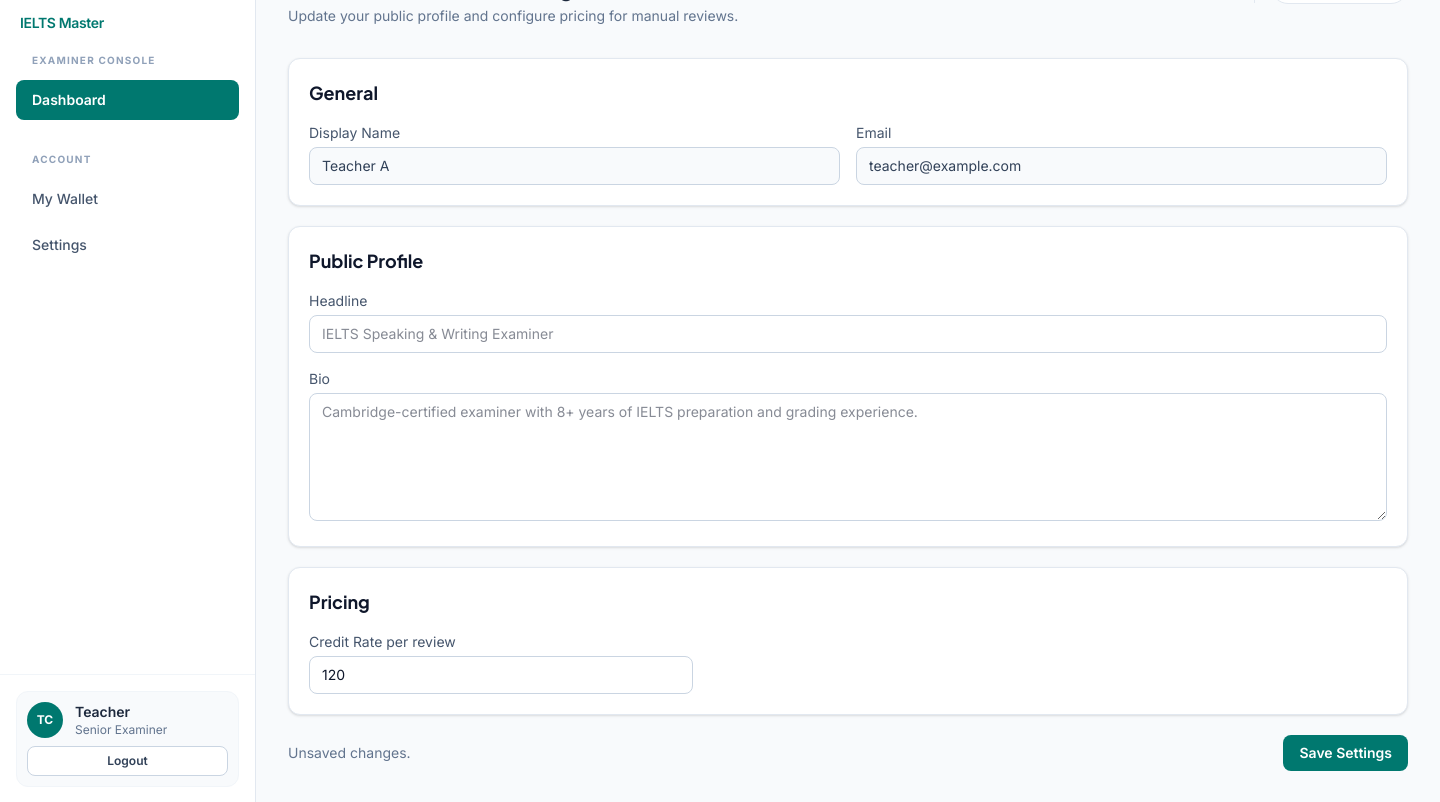
SettingsPage › shows error when token is missing
(page scrolled)
Click the button "Save Settings".
click(1346, 753)  # box [1284, 735, 1408, 771]
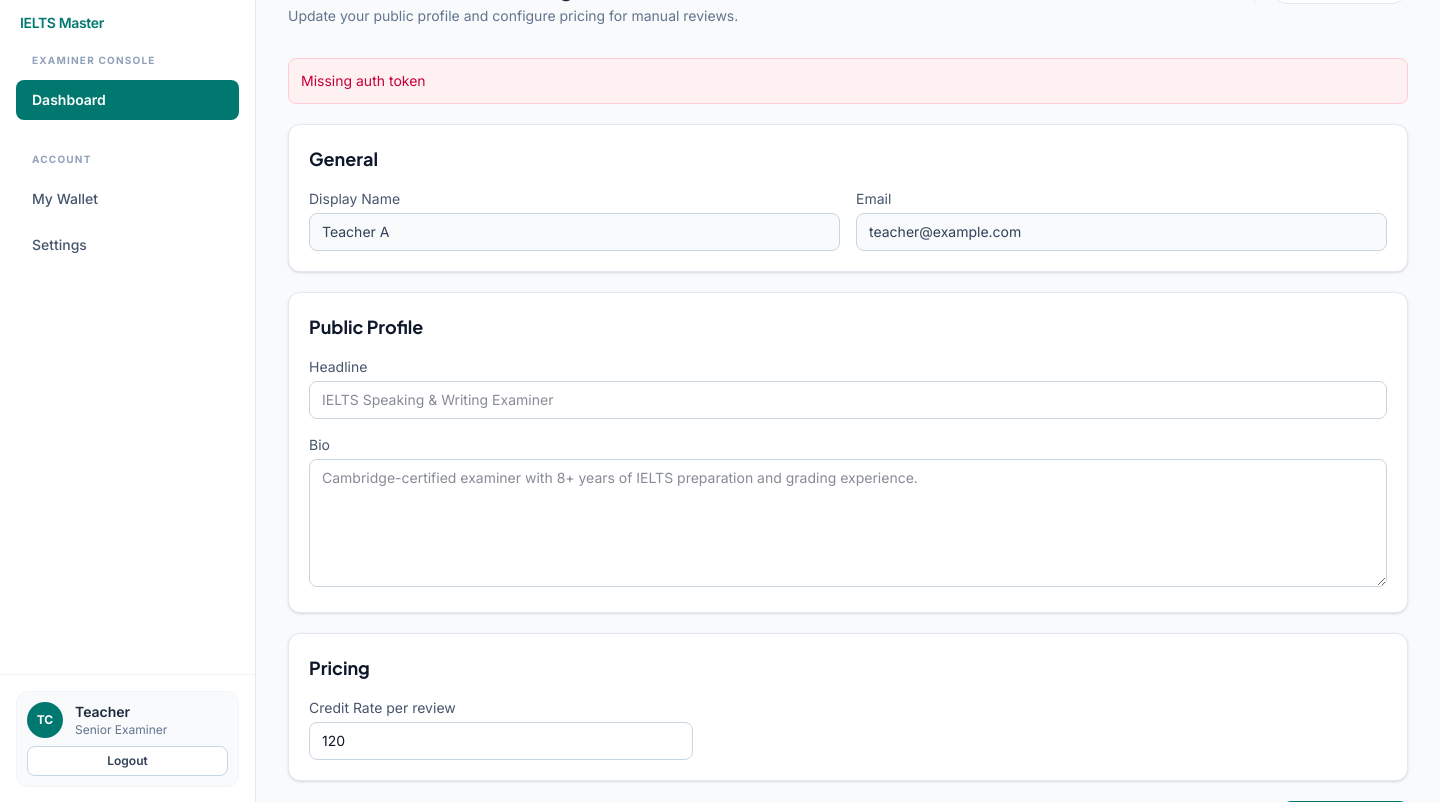
Check: the text "Missing auth token" is shown, box [288, 58, 1408, 104]
